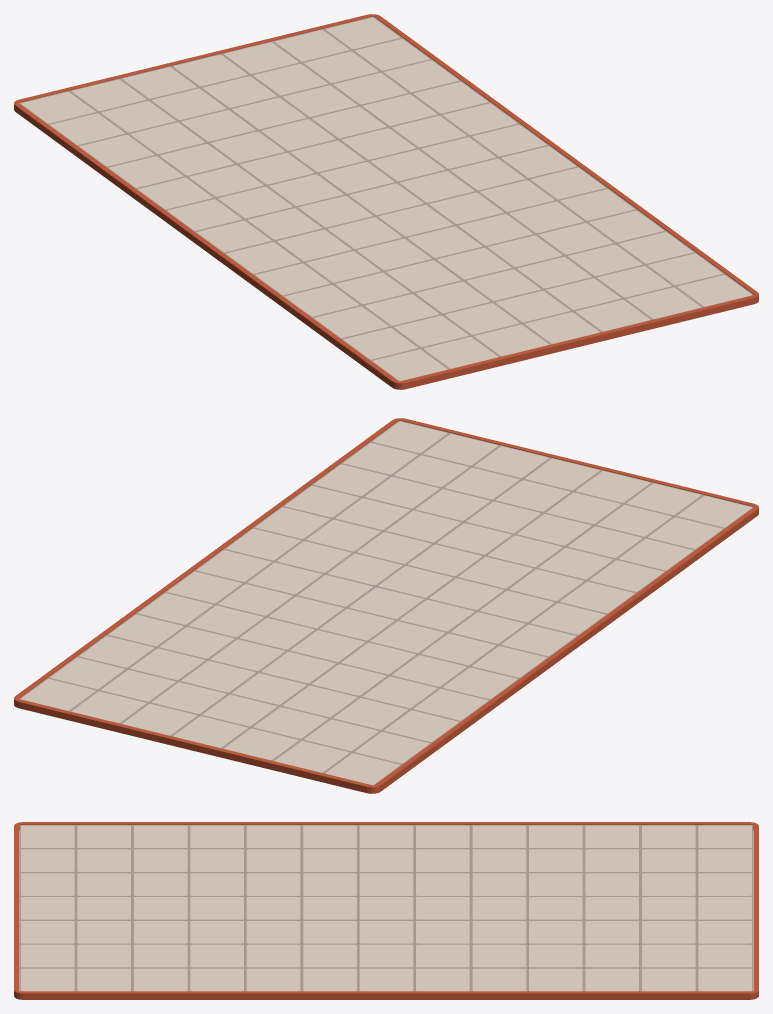
File: SnakeDummyTable.fbx
3 renders of one model, top to bottom at view 1: azimuth 30°, elevation 25°; view 2: azimuth 150°, elevation 25°; view 3: azimuth 270°, elevation 25°, orthographic. The views are drawn at different scales.
Parts seen in each view (by area): view 1: Table, Border; view 2: Table, Border; view 3: Table, Border.
Part boxes in pixels (x1=…): Table: x1=19, y1=16, x2=753, y2=381; Border: x1=14, y1=14, x2=758, y2=389; Table: x1=19, y1=420, x2=753, y2=785; Border: x1=14, y1=418, x2=758, y2=793; Table: x1=19, y1=825, x2=753, y2=991; Border: x1=14, y1=822, x2=758, y2=999.
Bounding box in the file's own units: 1440 × 24.27 × 2640.
